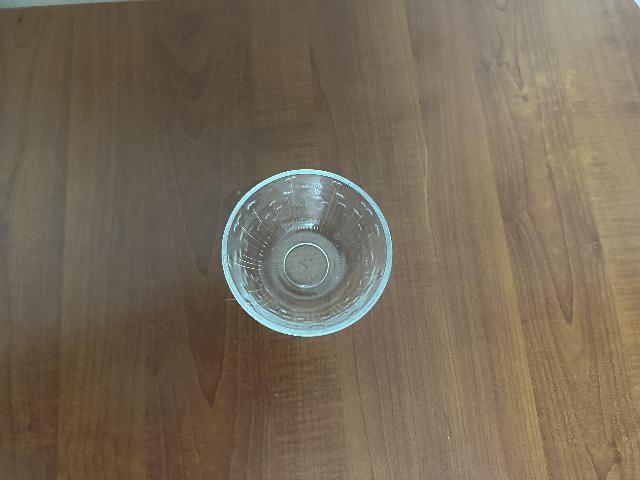Cam: (216, 167, 392, 340)
